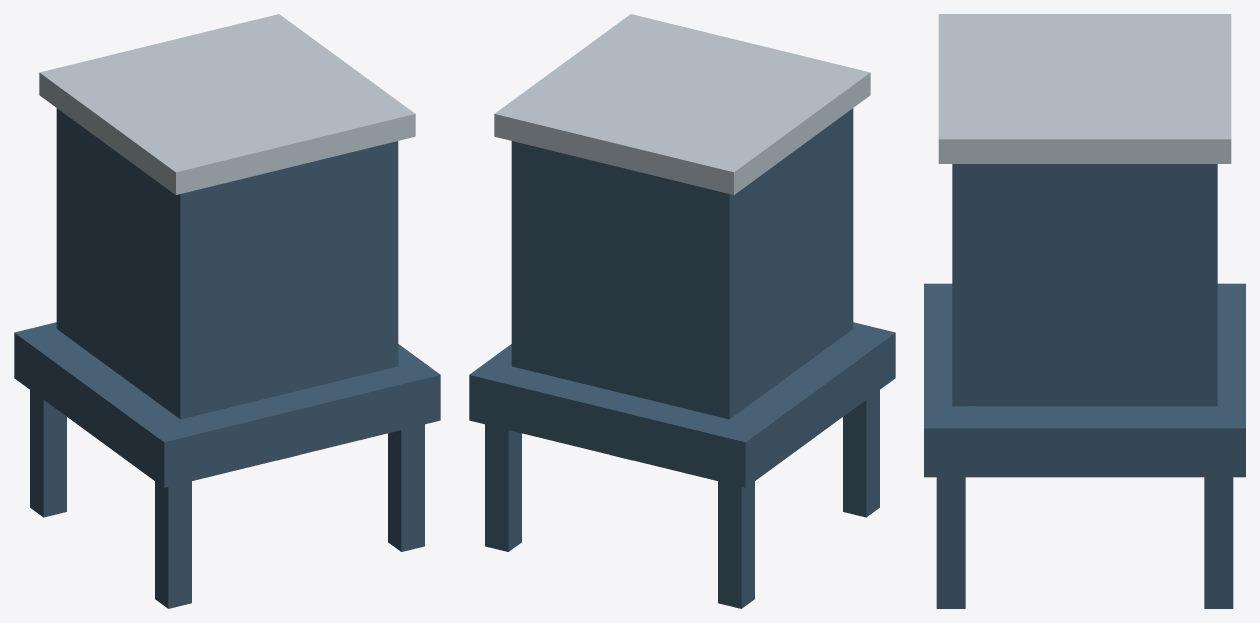
Rendered from 02_L78_InterconnectWaferCassette.fbx.
3 views of the same model, side by side, from view 1: azimuth 30°, elevation 25°; view 2: azimuth 150°, elevation 25°; view 3: azimuth 270°, elevation 25° (orthographic). The views are drawn at different scales.
Parts seen in each view (by area): view 1: InterconnectWaferCassette; view 2: InterconnectWaferCassette; view 3: InterconnectWaferCassette.
Boxes of the visible parts, x1=… form: InterconnectWaferCassette: x1=14, y1=14, x2=440, y2=608; InterconnectWaferCassette: x1=469, y1=14, x2=895, y2=608; InterconnectWaferCassette: x1=924, y1=14, x2=1245, y2=608.
Bounding box in the file's own units: 165 × 247 × 155.
